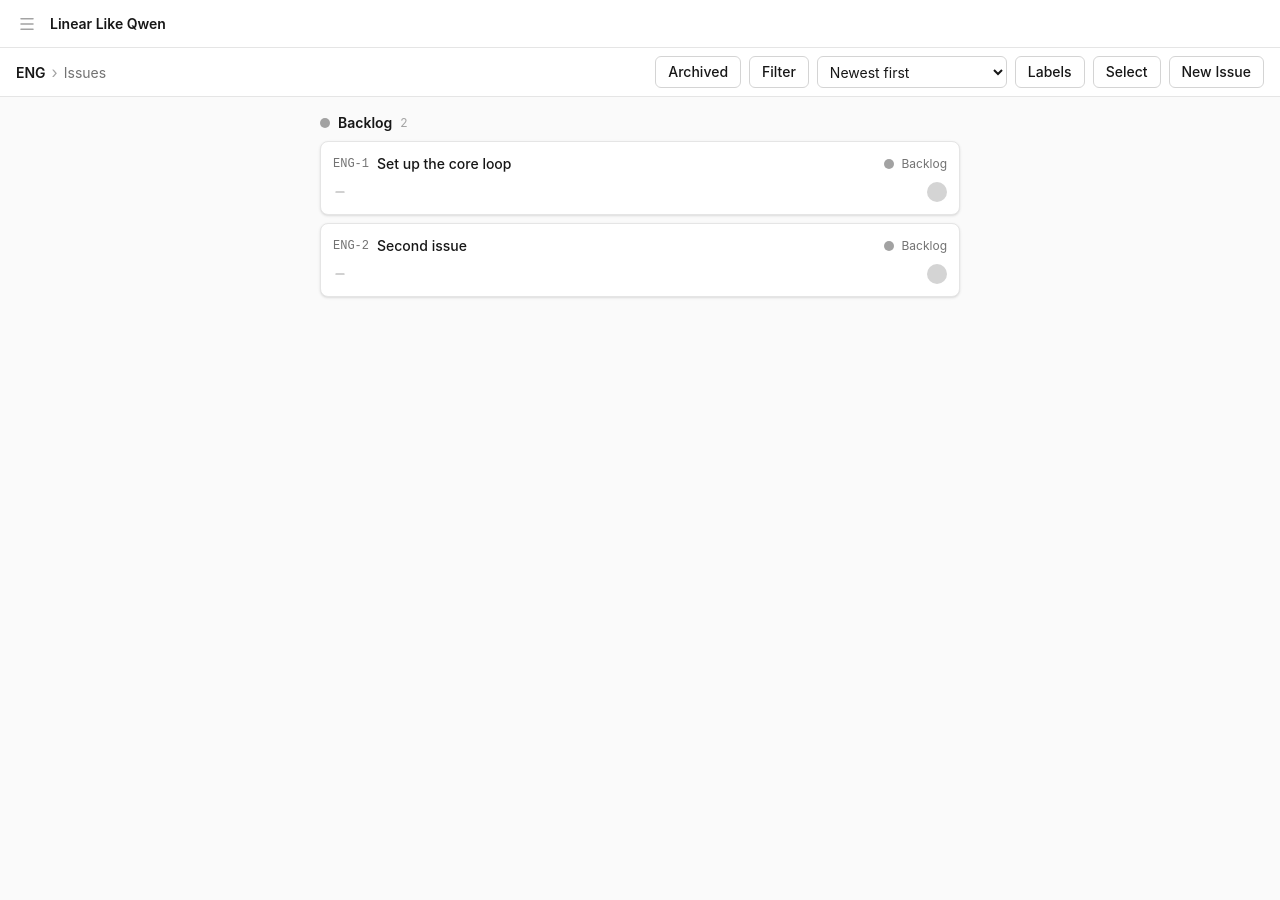
Test: AppShell 768px layout (ticket 10) › below 768px the sidebar becomes an off-canvas drawer
Expected: the text "ENG-1" is shown, left=333, top=156, right=369, bottom=172
Expected: the button "Log out" is not shown
Click the button named "Open sidebar" at {"x": 27, "y": 24}, box left=12, top=8, right=42, bottom=38
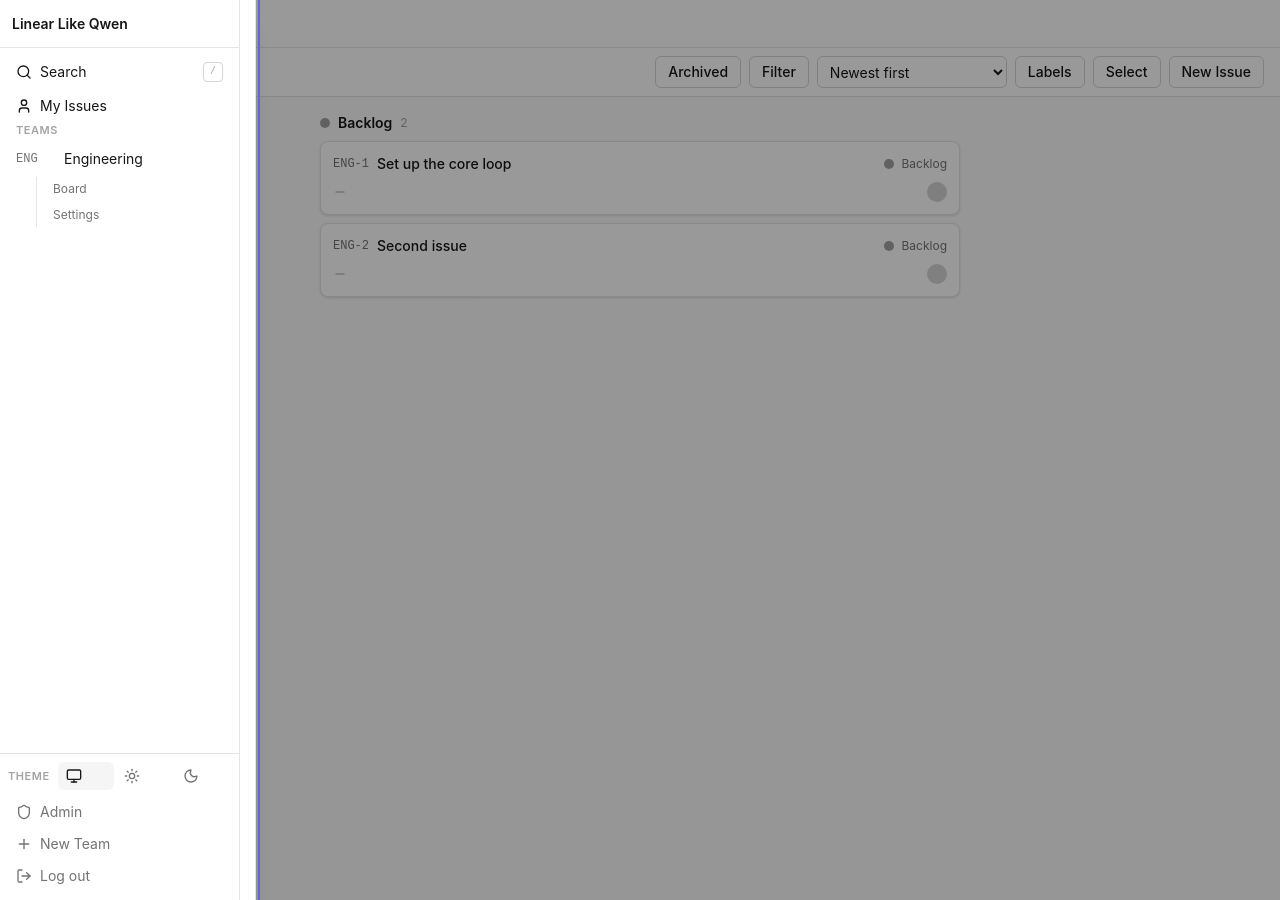
Expected: the link "My Issues" is shown, left=16, top=97, right=107, bottom=114
Press Escape
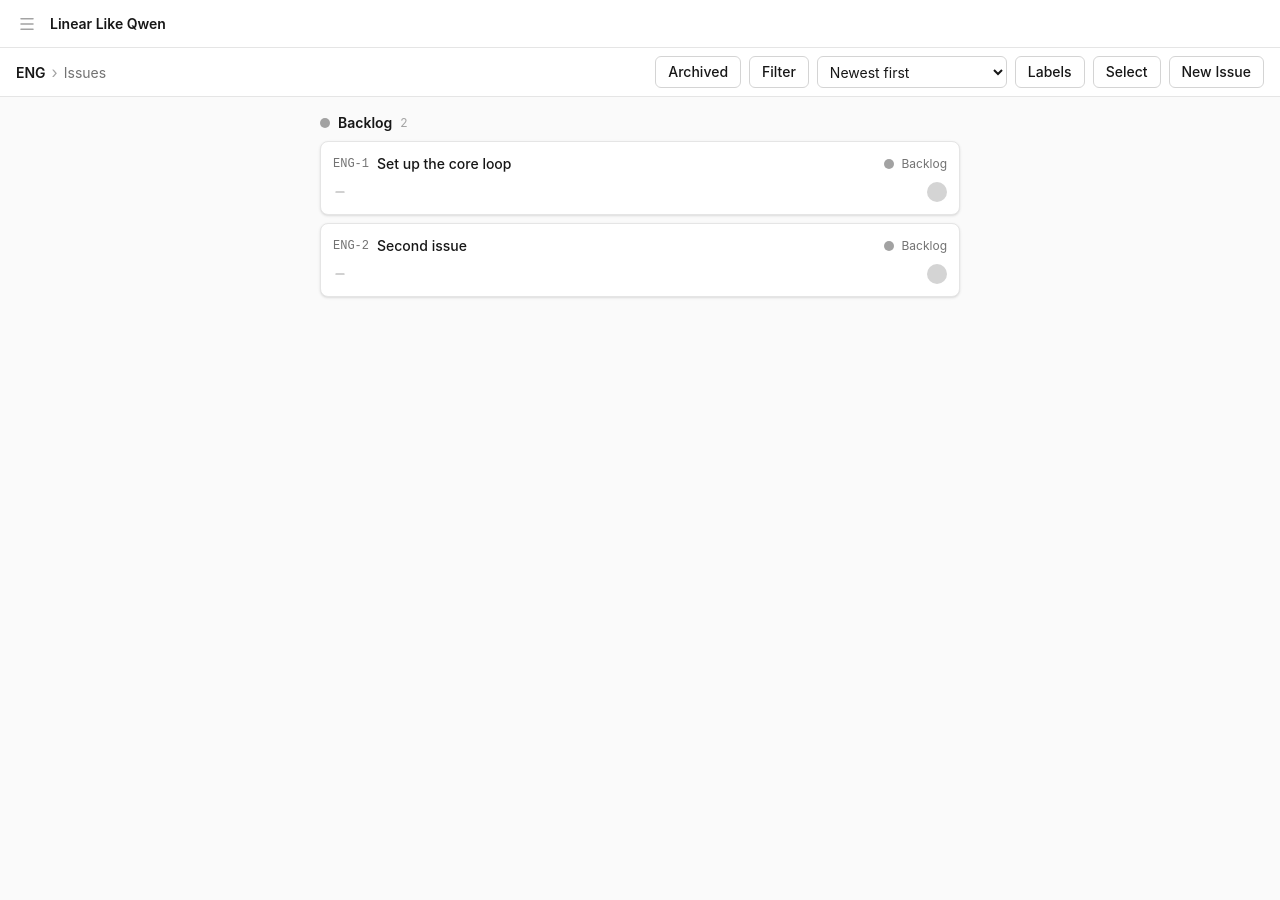
Expected: the dialog "Navigation" is gone
